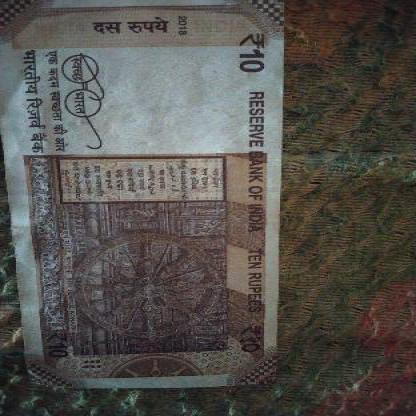New10Back: (0, 0, 280, 391)
